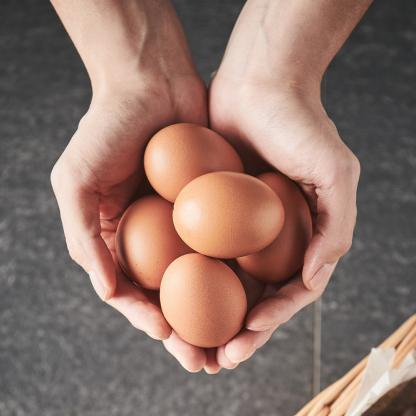egg: (165, 155, 286, 268), (135, 107, 253, 203), (242, 160, 320, 283), (102, 186, 189, 291), (158, 254, 245, 356)
